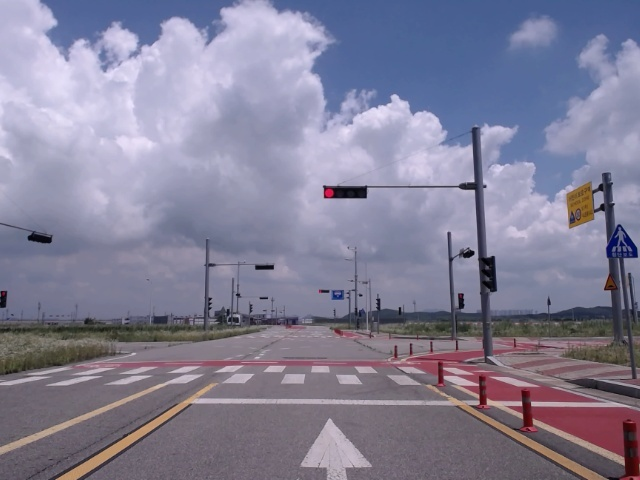red_4: (324, 187, 367, 199)
